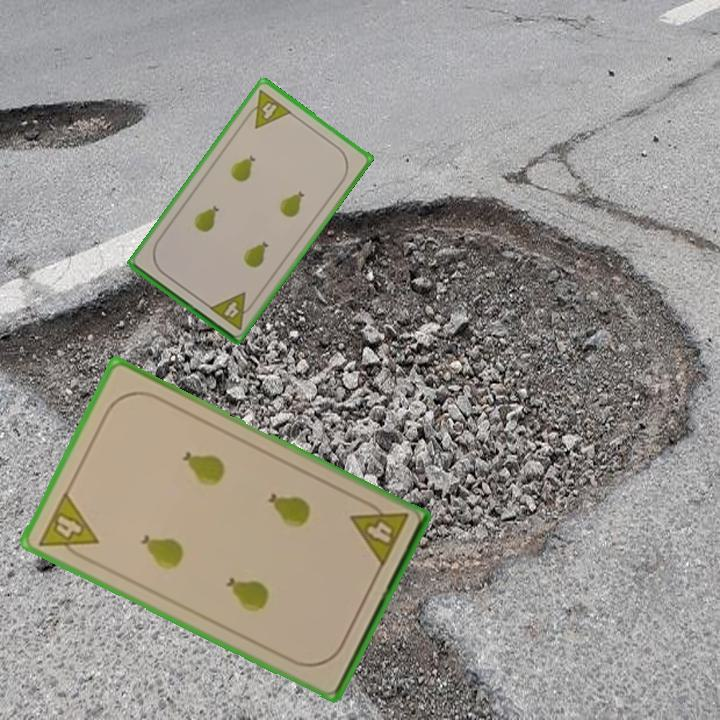4p: (34, 488, 101, 565), (347, 495, 411, 571), (240, 86, 295, 131), (205, 288, 258, 333)
